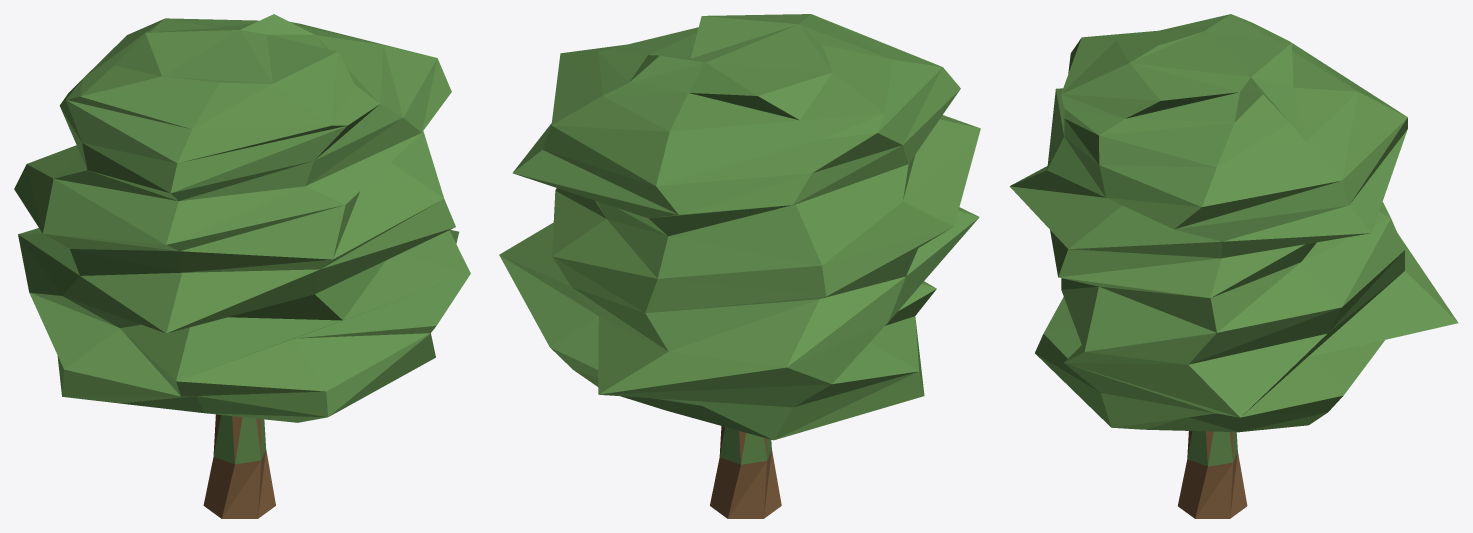
The model's file is tree3d-199.glb.
3 views of the same model, side by side, from view 1: azimuth 30°, elevation 25°; view 2: azimuth 150°, elevation 25°; view 3: azimuth 270°, elevation 25° (orthographic). The views are drawn at different scales.
Parts seen in each view (by area): view 1: tree3d-199; view 2: tree3d-199; view 3: tree3d-199.
Part boxes in pixels (x1,y1,x2,y2): tree3d-199: (14, 14, 470, 518); tree3d-199: (499, 14, 980, 518); tree3d-199: (1009, 14, 1458, 518).
Size of the model in its own units: 0.9998 by 1 by 0.9249.
